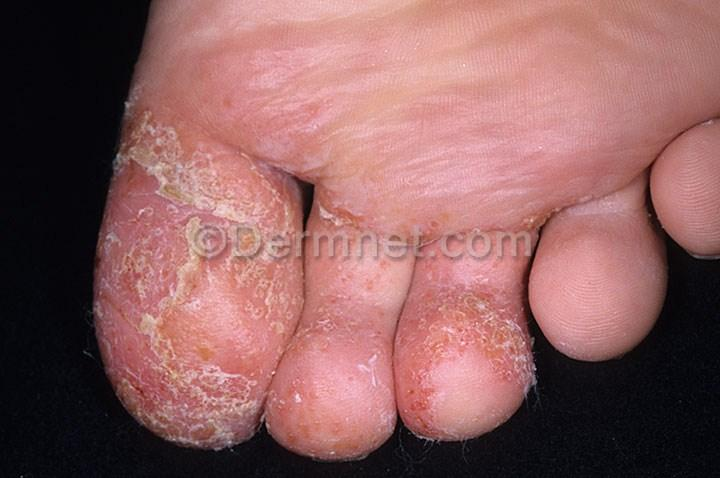excoriacion 2: (79, 124, 273, 452)
xerosis 1: (82, 128, 537, 470)
